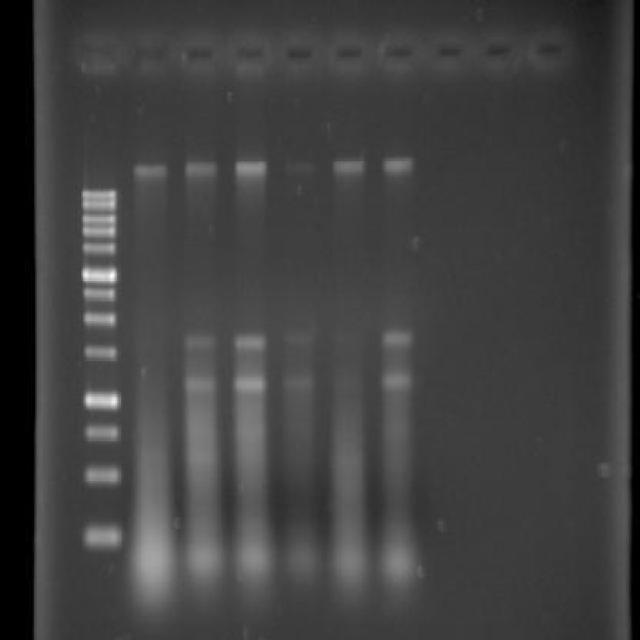B: (375, 148, 420, 182), (231, 330, 271, 356), (379, 322, 416, 350), (278, 156, 322, 179), (132, 156, 170, 182), (330, 153, 368, 178), (229, 157, 269, 180), (178, 158, 222, 178), (230, 371, 268, 394), (182, 329, 220, 351), (182, 373, 220, 395), (379, 370, 413, 392), (278, 330, 316, 348), (280, 373, 316, 392)
L: (64, 16, 588, 90)
M: (69, 111, 129, 568)
P: (77, 518, 125, 558), (80, 386, 123, 414), (80, 462, 122, 490), (82, 420, 122, 446), (80, 340, 120, 365), (79, 263, 119, 286), (80, 308, 118, 332), (80, 284, 118, 306), (80, 238, 118, 258), (80, 212, 118, 226), (82, 226, 118, 240), (80, 188, 118, 201), (80, 200, 118, 212)
Pc: (72, 20, 121, 78), (125, 26, 168, 80), (325, 29, 370, 80), (179, 25, 219, 81), (524, 26, 572, 72), (376, 27, 418, 78), (228, 32, 272, 78), (475, 28, 517, 74), (427, 28, 467, 76), (278, 29, 320, 72)
